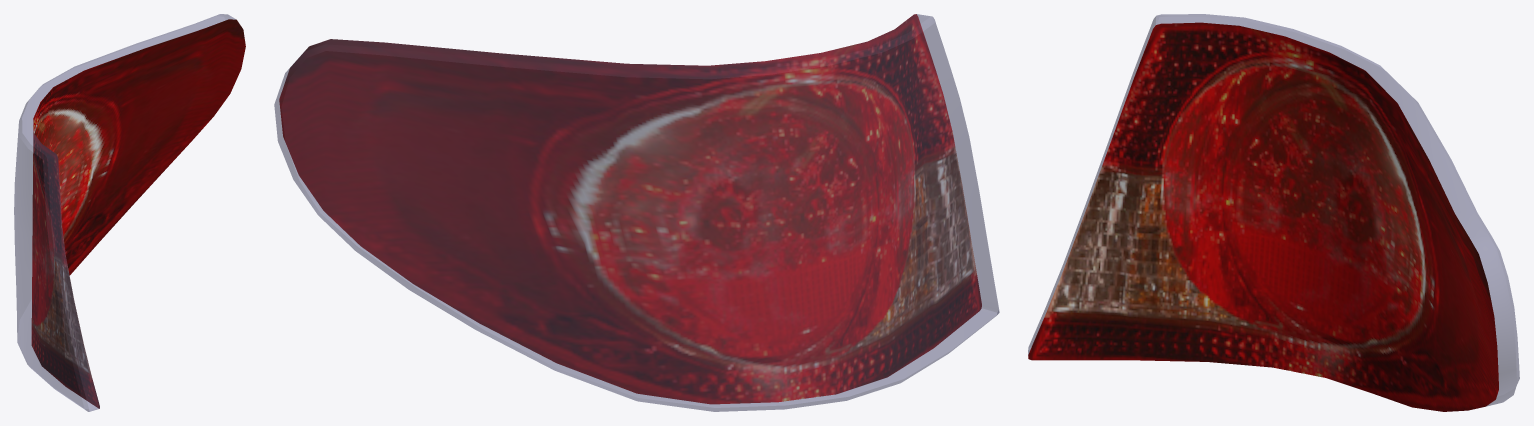
3 views of the same model, side by side, from view 1: azimuth 30°, elevation 25°; view 2: azimuth 150°, elevation 25°; view 3: azimuth 270°, elevation 25° (orthographic). The views are drawn at different scales.
Visible parts, largest first — view 1: Y211_541C_L_2_N_Y211_541C_L, Y211_541C_L_Y211_541C_L_1_DTaSI; view 2: Y211_541C_L_Y211_541C_L_1_DTaSI, Y211_541C_L_2_N_Y211_541C_L; view 3: Y211_541C_L_2_N_Y211_541C_L, Y211_541C_L_Y211_541C_L_1_DTaSI.
Part boxes in pixels (bbox=[...]): Y211_541C_L_2_N_Y211_541C_L: bbox=[31, 19, 245, 408]; Y211_541C_L_Y211_541C_L_1_DTaSI: bbox=[14, 14, 235, 411]; Y211_541C_L_Y211_541C_L_1_DTaSI: bbox=[274, 14, 999, 411]; Y211_541C_L_2_N_Y211_541C_L: bbox=[279, 14, 981, 404]; Y211_541C_L_2_N_Y211_541C_L: bbox=[1028, 22, 1498, 411]; Y211_541C_L_Y211_541C_L_1_DTaSI: bbox=[1028, 14, 1519, 406].
Size of the model in its own units: 33.87 by 22.78 by 29.82.
